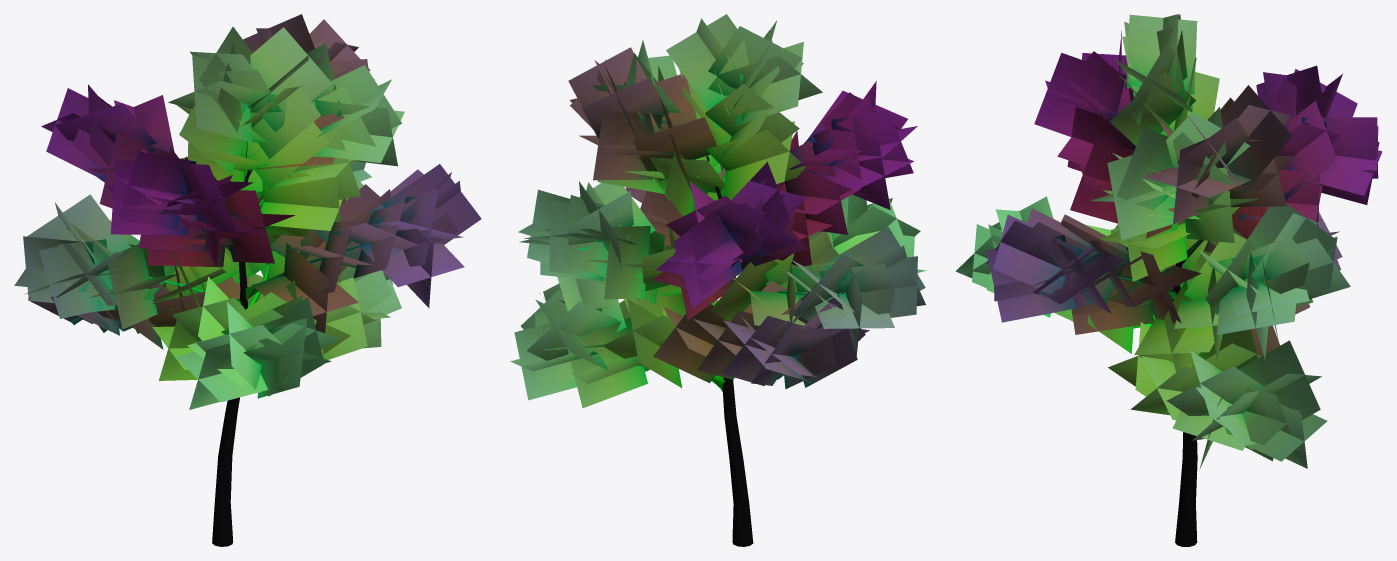
Rendered from URP_P3_Tree_2_LOD_2.fbx.
The picture shows the model from 3 angles, left to right: view 1: azimuth 30°, elevation 25°; view 2: azimuth 150°, elevation 25°; view 3: azimuth 270°, elevation 25°; orthographic projection. The views are drawn at different scales.
Parts seen in each view (by area): view 1: Tree_2_LOD_2; view 2: Tree_2_LOD_2; view 3: Tree_2_LOD_2.
Boxes of the visible parts, bbox=[...] form: Tree_2_LOD_2: bbox=[14, 14, 481, 546]; Tree_2_LOD_2: bbox=[510, 14, 926, 546]; Tree_2_LOD_2: bbox=[955, 14, 1382, 546].
Bounding box in the file's own units: 643 × 826 × 601.
